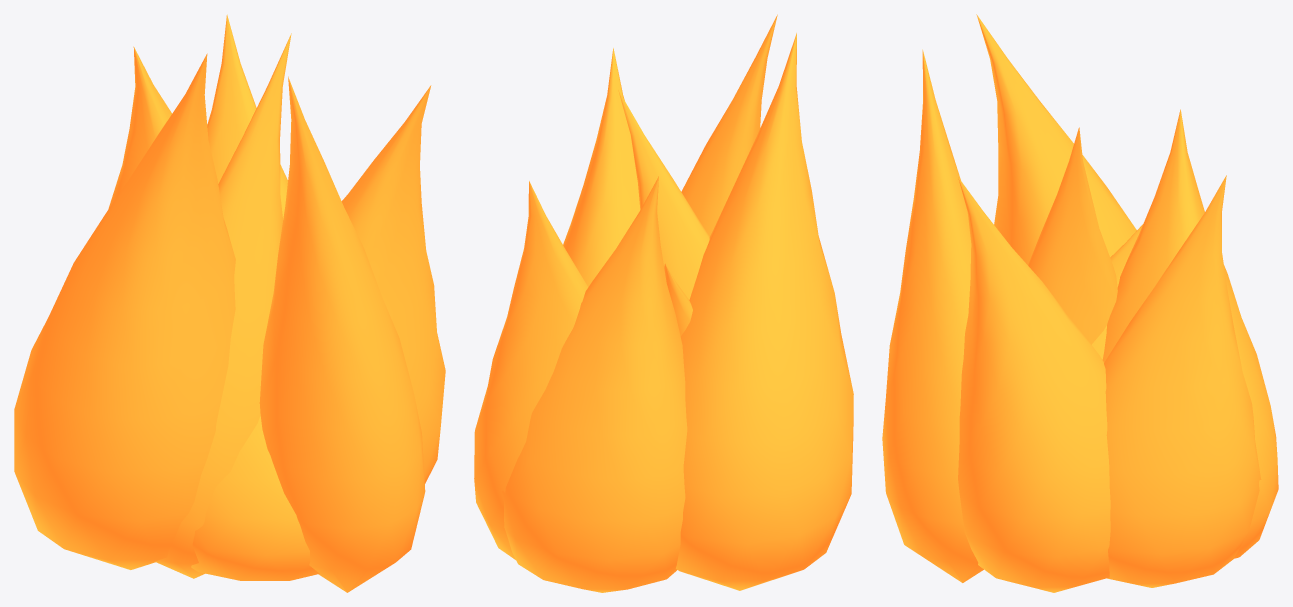
File: kr_fire2_outer.glb
3 views of the same model, side by side, from view 1: azimuth 30°, elevation 25°; view 2: azimuth 150°, elevation 25°; view 3: azimuth 270°, elevation 25° (orthographic). The views are drawn at different scales.
Parts seen in each view (by area): view 1: kr_fire2_outer_fl_outer; view 2: kr_fire2_outer_fl_outer; view 3: kr_fire2_outer_fl_outer.
Boxes of the visible parts, x1,y1,x2,y2 form: kr_fire2_outer_fl_outer: (14, 14, 445, 592); kr_fire2_outer_fl_outer: (474, 14, 853, 592); kr_fire2_outer_fl_outer: (882, 14, 1278, 592).
Bounding box in the file's own units: 0.7402 × 1.09 × 0.7648.
